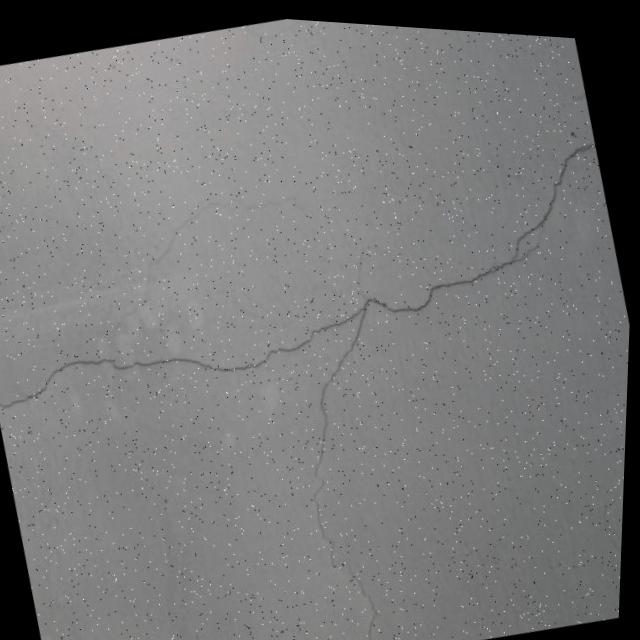Crack: (0, 93, 637, 640)
